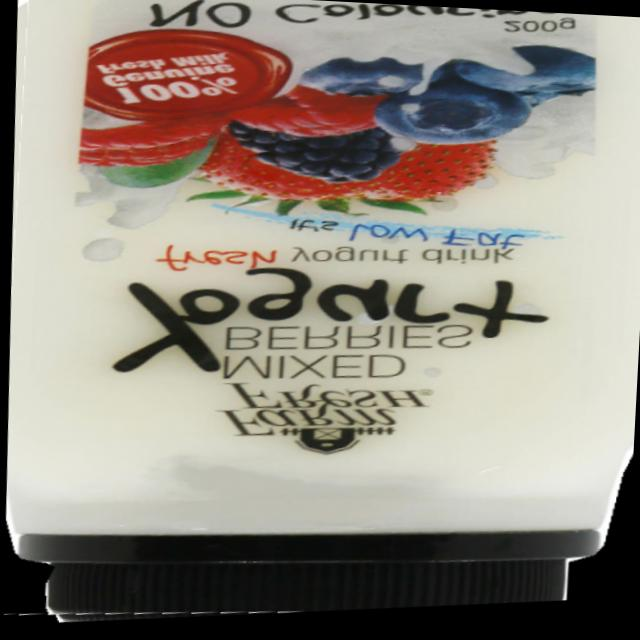plastic: (2, 0, 640, 616)
